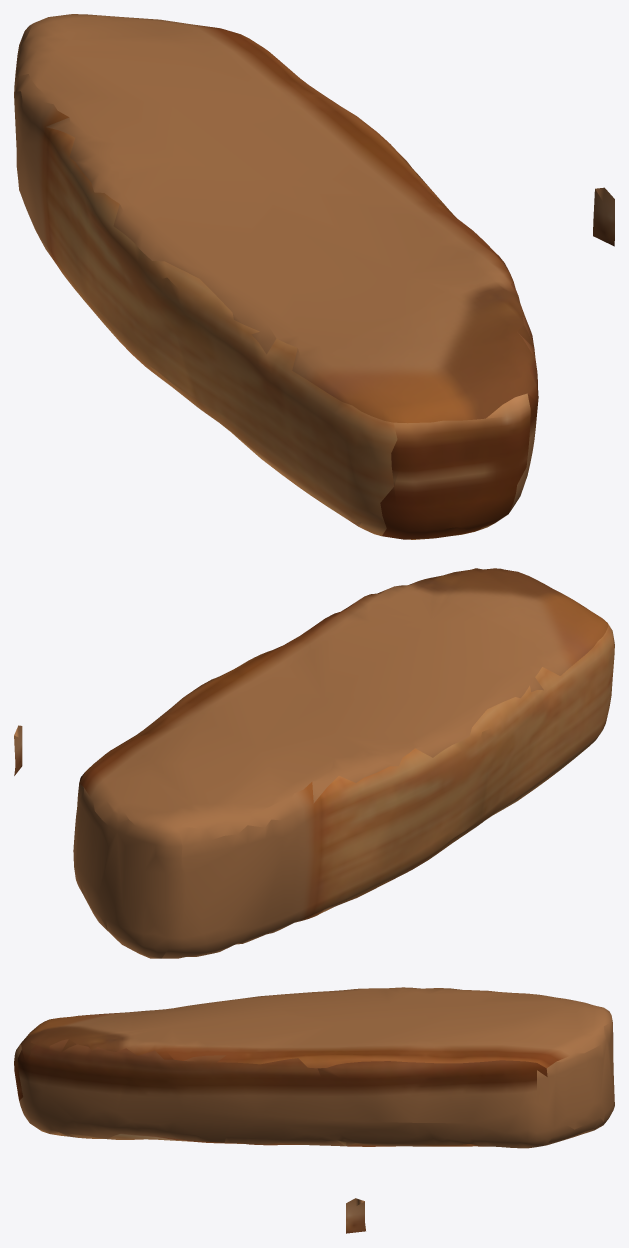
The model's file is Glacier_board01.fbx.
3 renders of one model, top to bottom at view 1: azimuth 30°, elevation 25°; view 2: azimuth 150°, elevation 25°; view 3: azimuth 270°, elevation 25°, orthographic. The views are drawn at different scales.
Parts seen in each view (by area): view 1: material_0; view 2: material_0; view 3: material_0.
Boxes of the visible parts, x1,y1,x2,y2 form: material_0: (14,14,614,539); material_0: (14,568,614,958); material_0: (14,987,614,1233).
Size of the model in its own units: 0.1335 by 0.0502 by 0.2174.
